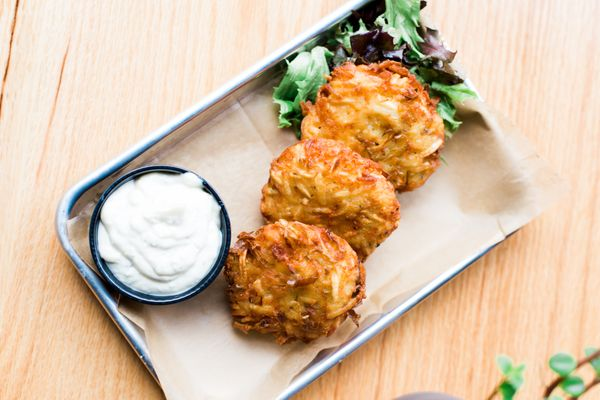sushi: (80, 163, 231, 304)
